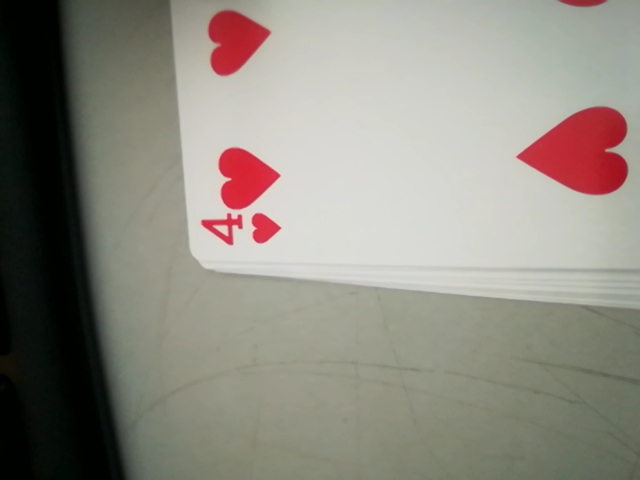hx 4: (197, 205, 284, 261)
